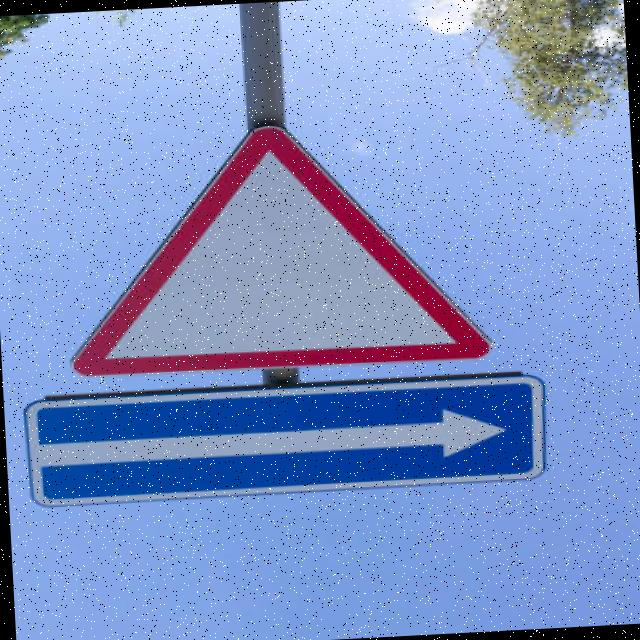give_way: (60, 113, 498, 394)
